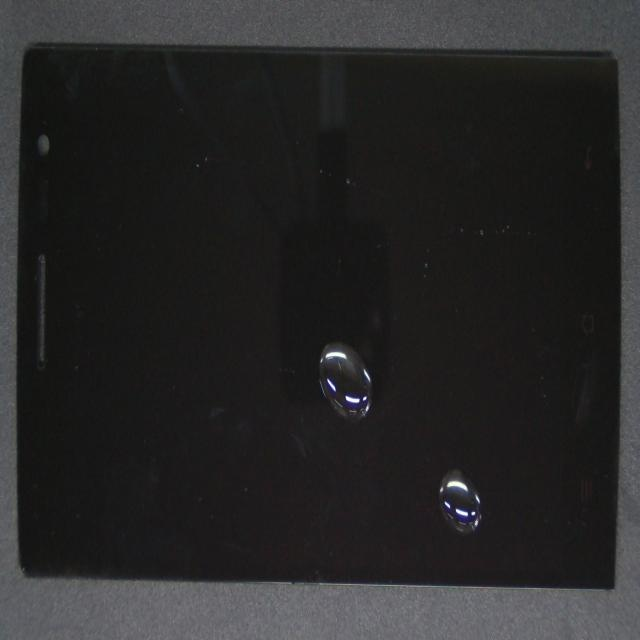oil: (241, 221, 640, 640), (211, 194, 538, 529)
